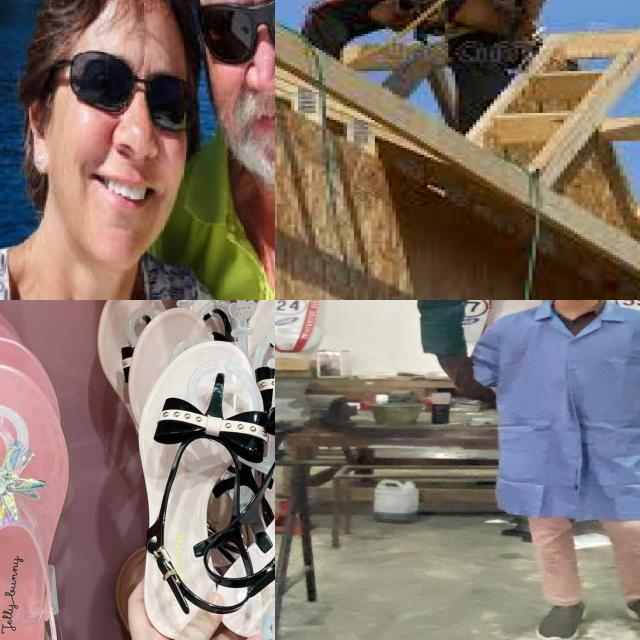Harness: (378, 0, 518, 32)
Sandals: (123, 335, 275, 640), (0, 332, 76, 640)
face_nomask: (65, 43, 178, 222), (197, 0, 275, 135)
glasses: (68, 45, 201, 140), (193, 0, 275, 60)
hand_glove: (404, 300, 478, 321)
person: (394, 300, 640, 640), (0, 0, 177, 300), (152, 0, 275, 300)
shoes: (520, 596, 602, 640), (616, 590, 640, 640)
